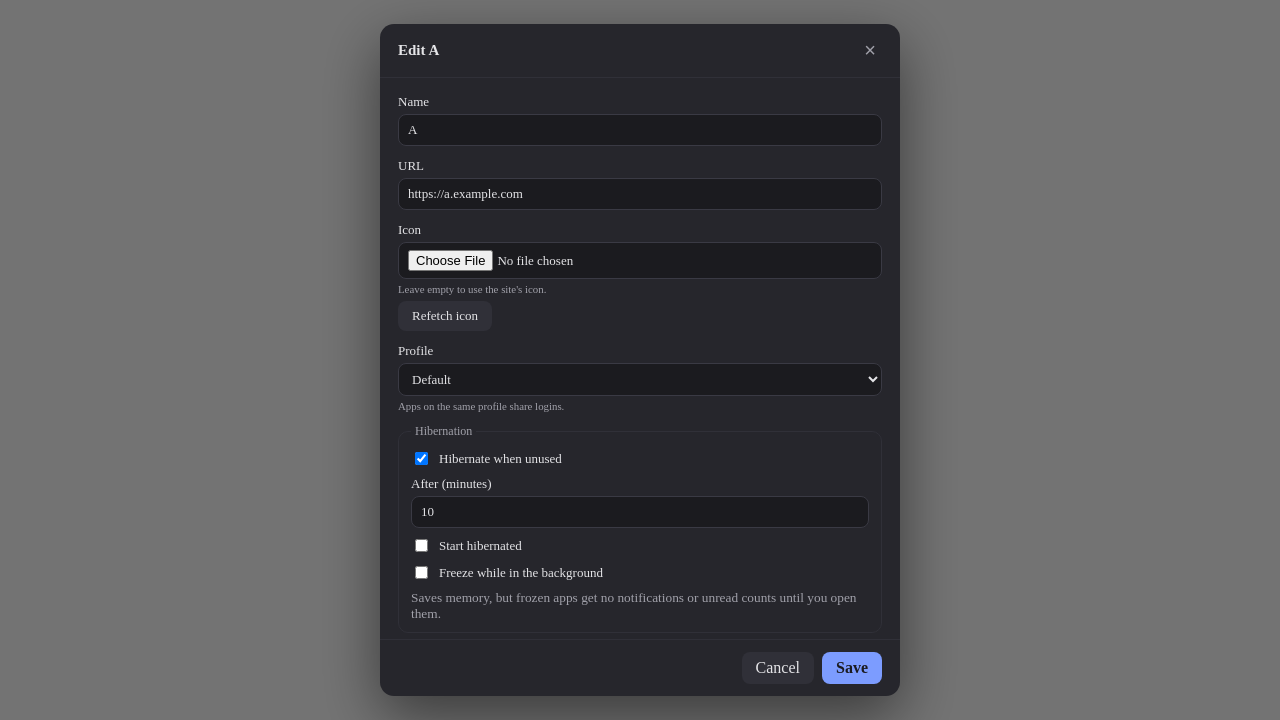
Test: Rust errors are shown in the form
Click the button "Save".
click(852, 668)  # box [822,652,882,684]
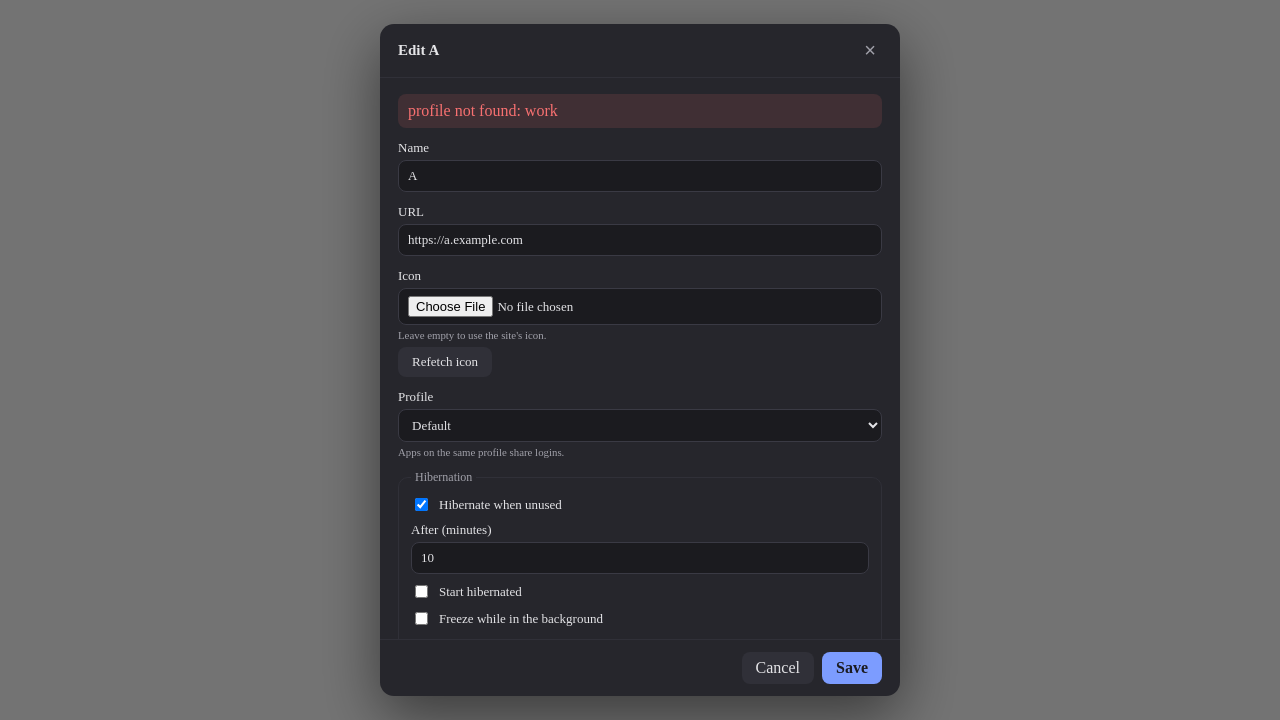
Now the message reads "profile not found: work", box [408,102,558,119]
